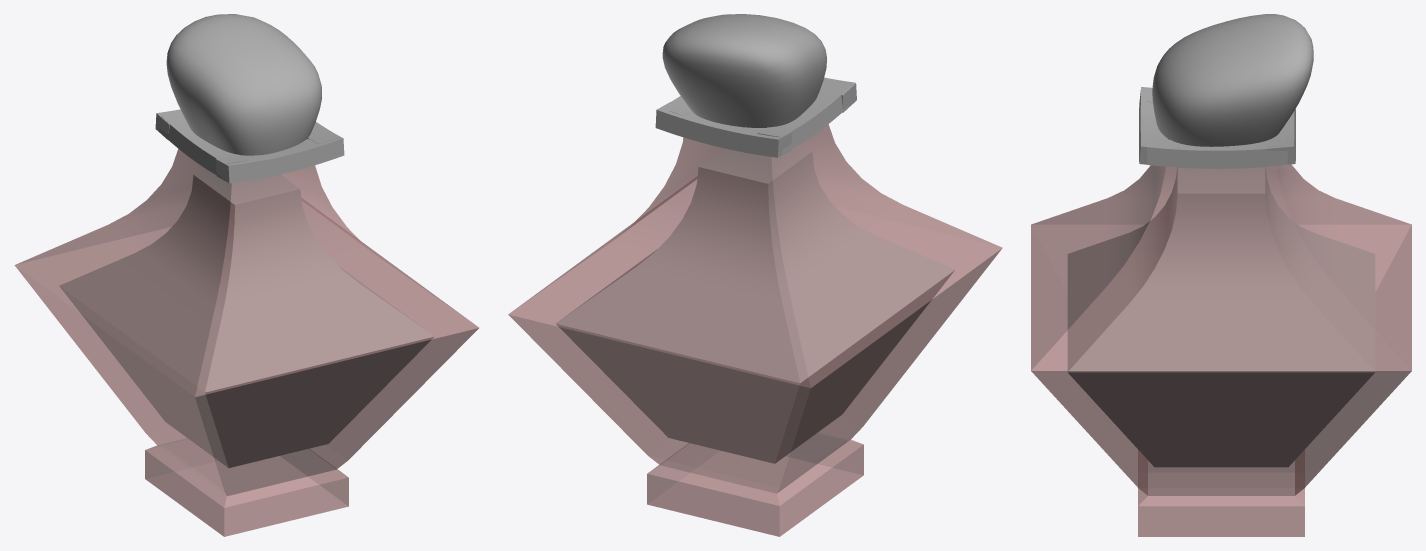
Rendered from potion2.fbx.
The picture shows the model from 3 angles, left to right: view 1: azimuth 30°, elevation 25°; view 2: azimuth 150°, elevation 25°; view 3: azimuth 270°, elevation 25°; orthographic projection. The views are drawn at different scales.
Parts seen in each view (by area): view 1: vessel, liquid, top, side4, side2; view 2: vessel, liquid, top, side3, side2; view 3: vessel, liquid, top, side1, side4, side3.
Boxes of the visible parts, <box> form: vessel: <box>14,149,479,536</box>; liquid: <box>59,171,434,467</box>; top: <box>166,14,321,155</box>; side4: <box>215,133,344,183</box>; side2: <box>159,112,248,179</box>; vessel: <box>508,124,1002,536</box>; liquid: <box>556,147,954,463</box>; top: <box>662,14,826,127</box>; side3: <box>655,102,792,157</box>; side2: <box>757,81,852,154</box>; vessel: <box>1031,164,1411,536</box>; liquid: <box>1067,167,1375,467</box>; top: <box>1152,14,1313,146</box>; side1: <box>1147,137,1287,168</box>; side4: <box>1139,87,1167,164</box>; side3: <box>1267,109,1295,164</box>.
Bounding box in the file's own units: 11.4 × 17.29 × 12.53.
